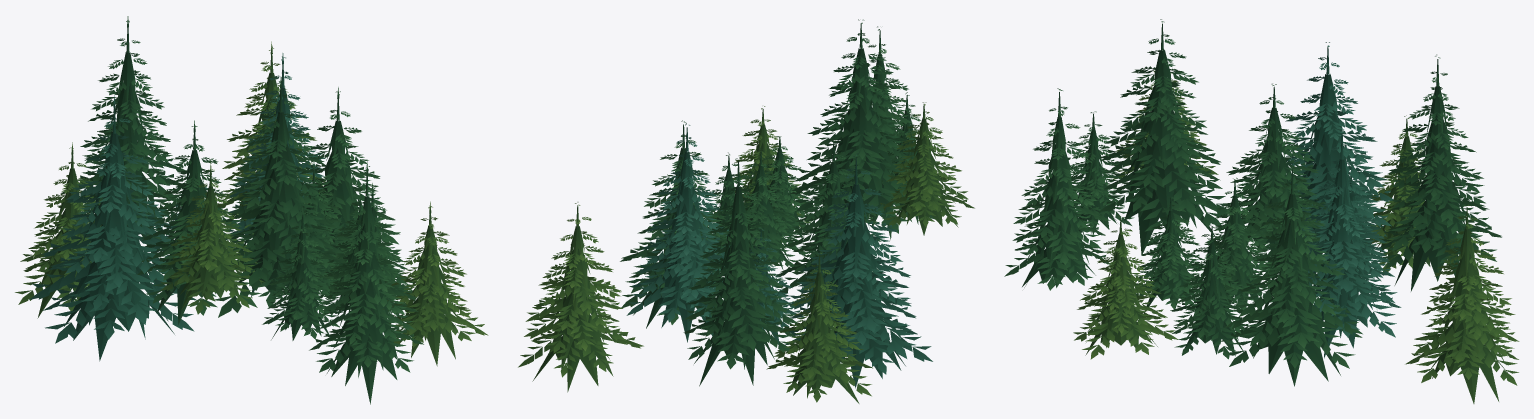
The picture shows the model from 3 angles, left to right: view 1: azimuth 30°, elevation 25°; view 2: azimuth 150°, elevation 25°; view 3: azimuth 270°, elevation 25°; orthographic projection. The views are drawn at different scales.
Visible parts, largest first — view 1: pn_17; view 2: pn_17; view 3: pn_17.
Boxes of the visible parts, bbox=[...] form: pn_17: bbox=[15, 16, 488, 404]; pn_17: bbox=[518, 19, 974, 403]; pn_17: bbox=[1004, 19, 1519, 403].
Size of the model in its own units: 24.68 by 21.16 by 32.58.
1 material, 1 textured.
